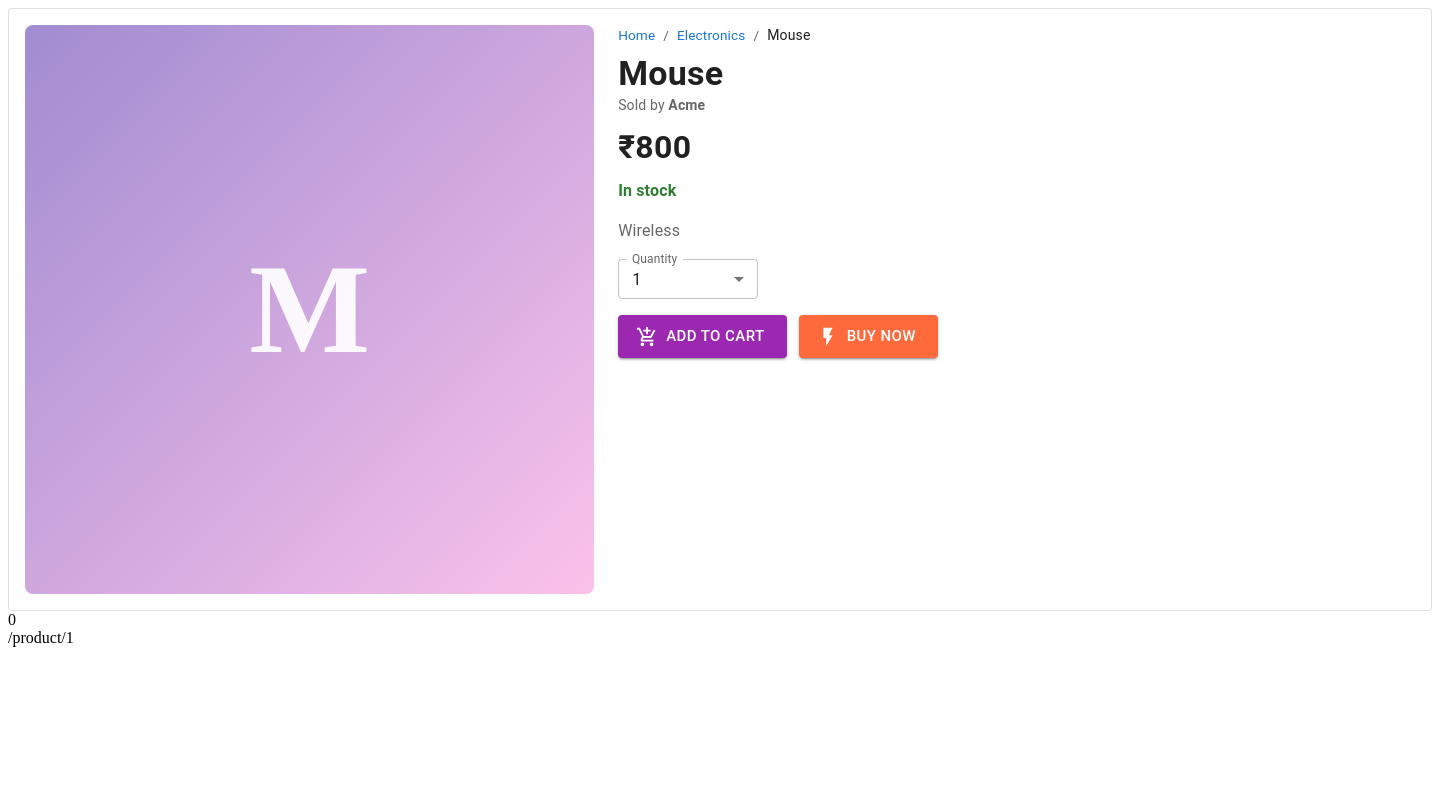
it: ProductDetail › adds the chosen quantity to the cart
Select "4" in the dropdown labelled "Quantity": (688, 279) [618,259,758,299]
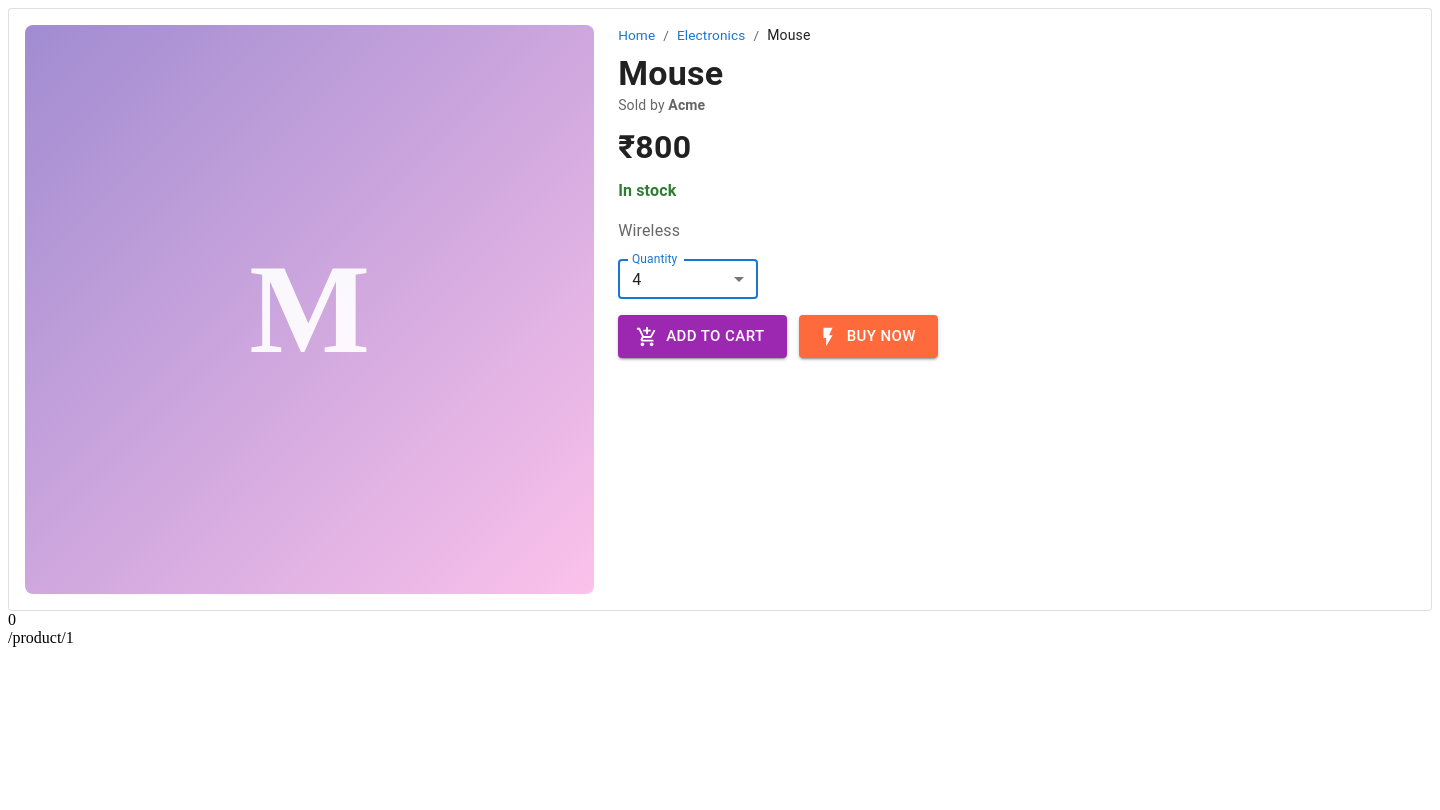
Click the button "Add to cart": (702, 337) [618,315,787,358]
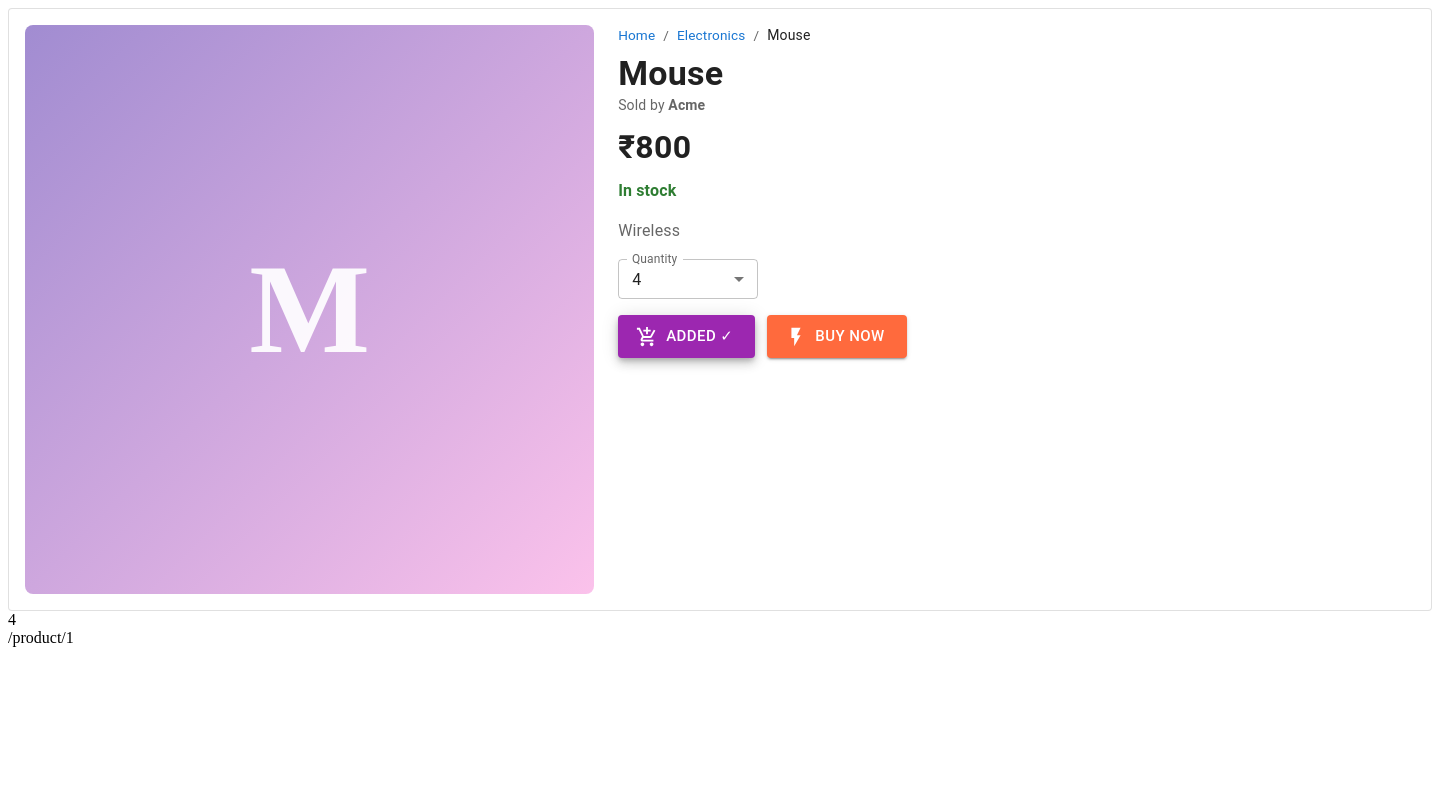
Expected: the text with test id "count" reads "4", [8,611,16,628]
Expected: the button "Added ✓" is shown, [618,315,755,358]
